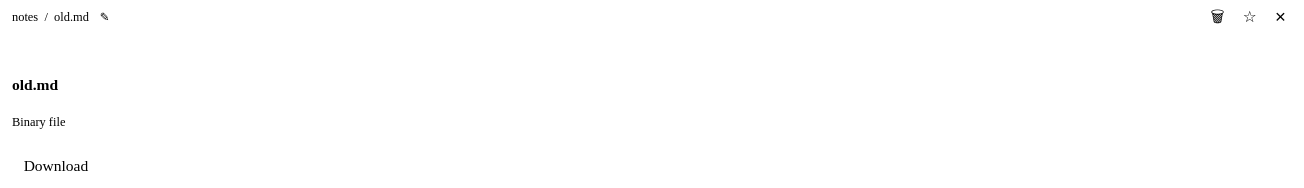
workspace generated mutation callers › preserves the generic rename message after a network failure
The image size is (1304, 188).
Step 1. Click the button with class "file-rename-btn" → (105, 16), box x1=96 y1=10 x2=113 y2=22
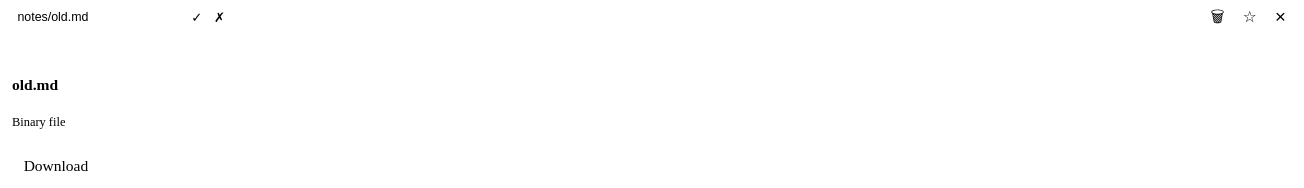
Step 2. Replace the text in the field with class "file-rename-input" with "notes/new.md" → (97, 17), box x1=12 y1=8 x2=183 y2=26
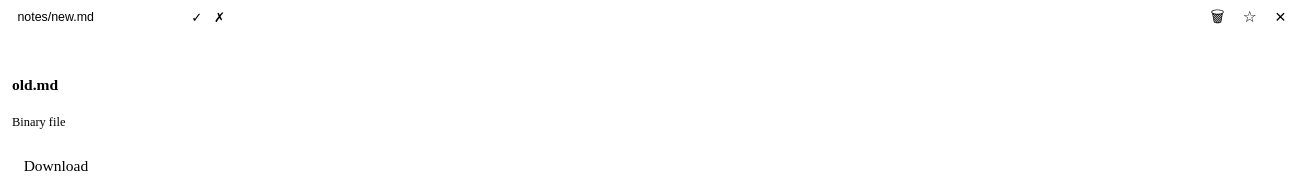
Step 3. Click the button with class "file-rename-ok" → (197, 17), box x1=188 y1=10 x2=206 y2=24
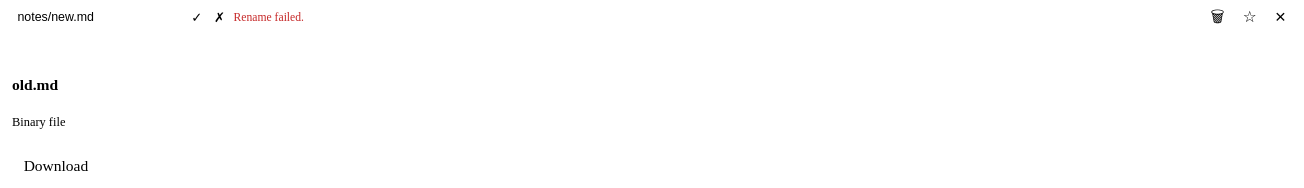
Expected: the text "Rename failed." is shown, x1=234 y1=10 x2=304 y2=24
